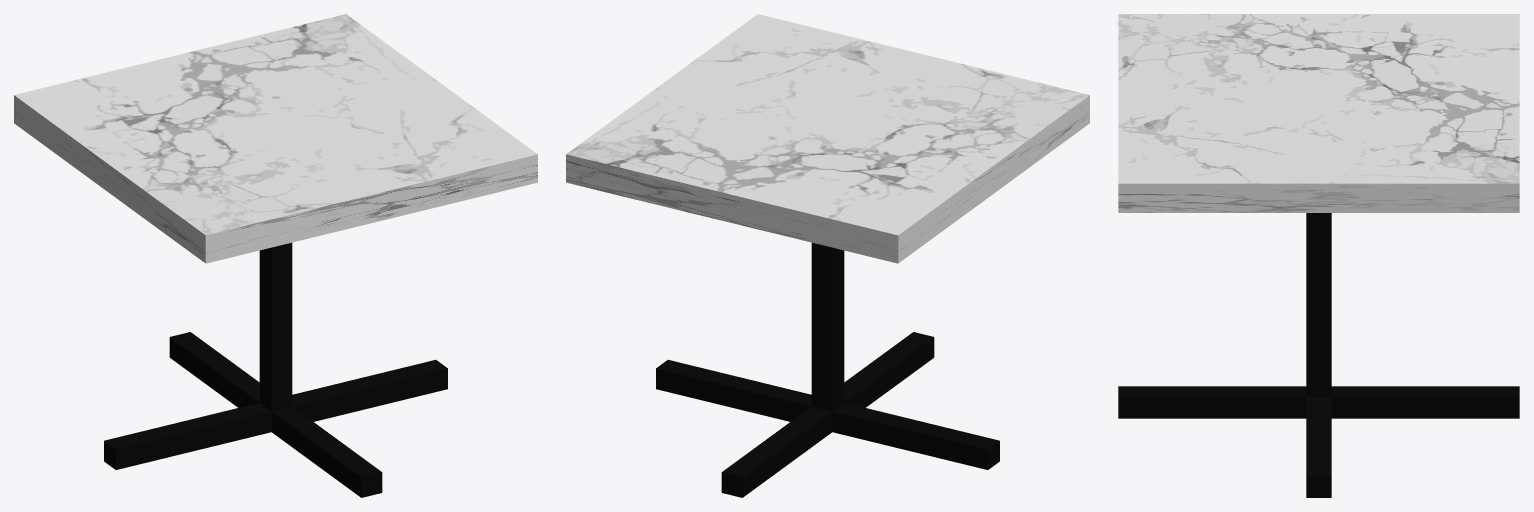
File: realMarbleTable.fbx
The picture shows the model from 3 angles, left to right: view 1: azimuth 30°, elevation 25°; view 2: azimuth 150°, elevation 25°; view 3: azimuth 270°, elevation 25°; orthographic projection. The views are drawn at different scales.
Parts seen in each view (by area): view 1: pCube1; view 2: pCube1; view 3: pCube1.
Boxes of the visible parts, x1,y1,x2,y2 form: pCube1: (14,14,537,497); pCube1: (566,14,1089,497); pCube1: (1118,14,1519,497).
Size of the model in its own units: 100 by 86.45 by 100.
2 materials, 1 textured.
